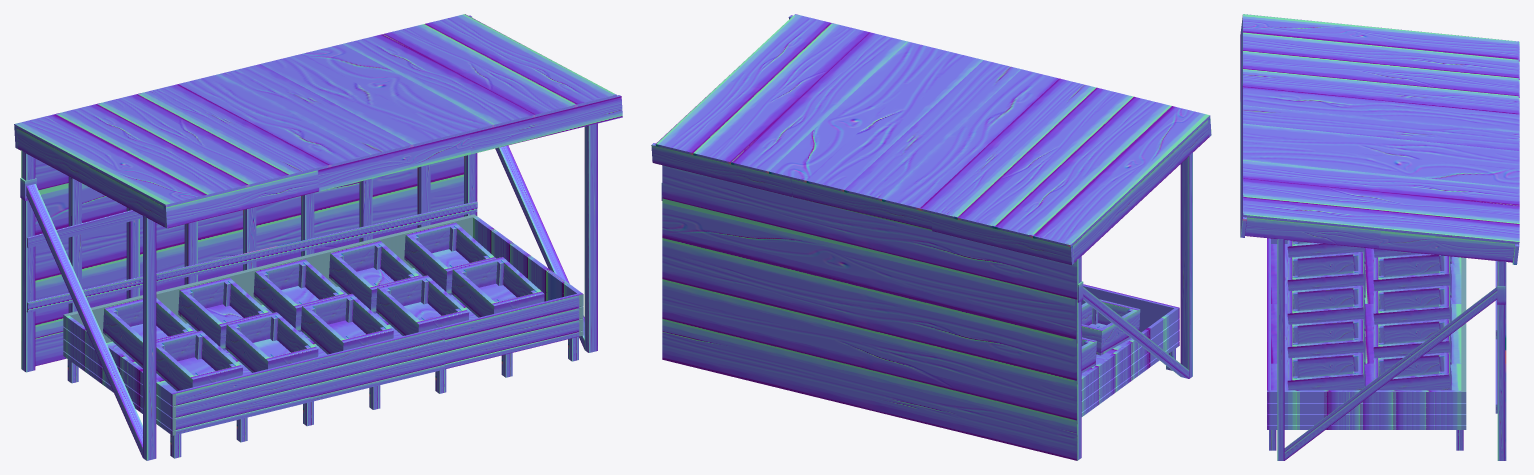
File: SM_Market_A.fbx
The picture shows the model from 3 angles, left to right: view 1: azimuth 30°, elevation 25°; view 2: azimuth 150°, elevation 25°; view 3: azimuth 270°, elevation 25°; orthographic projection. The views are drawn at different scales.
Parts seen in each view (by area): view 1: SM_Market_A; view 2: SM_Market_A; view 3: SM_Market_A.
Boxes of the visible parts, x1=… form: SM_Market_A: x1=14, y1=14, x2=622, y2=460; SM_Market_A: x1=651, y1=14, x2=1211, y2=460; SM_Market_A: x1=1240, y1=14, x2=1519, y2=460.
Bounding box in the file's own units: 393 × 222 × 228.
